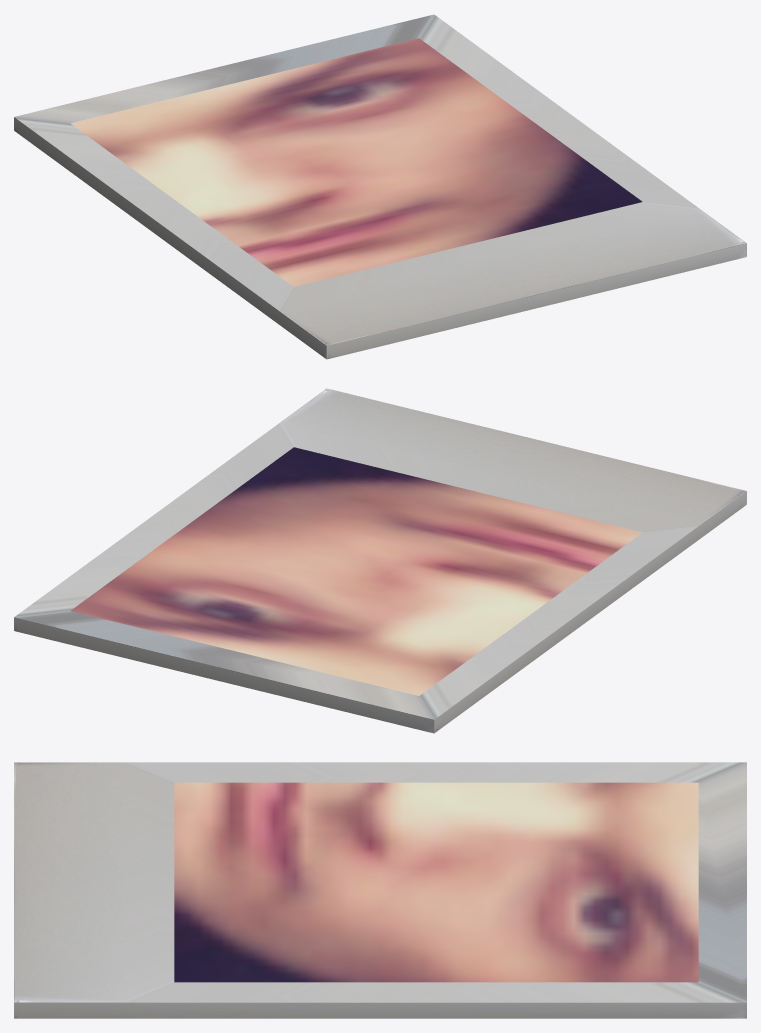
The model's file is photo1.FBX.
3 views of the same model, one above another, from view 1: azimuth 30°, elevation 25°; view 2: azimuth 150°, elevation 25°; view 3: azimuth 270°, elevation 25° (orthographic). The views are drawn at different scales.
Parts seen in each view (by area): view 1: Object001, Box001; view 2: Object001, Box001; view 3: Object001, Box001.
Boxes of the visible parts, bbox=[...] form: Object001: bbox=[70, 38, 642, 286]; Box001: bbox=[14, 14, 746, 359]; Object001: bbox=[70, 447, 642, 695]; Box001: bbox=[14, 388, 746, 733]; Object001: bbox=[174, 782, 698, 982]; Box001: bbox=[14, 762, 746, 1018].
Size of the model in its own units: 32.55 by 1.01 by 41.95.
2 materials, 2 textured.
